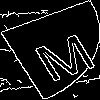M: (25, 25, 100, 83)
